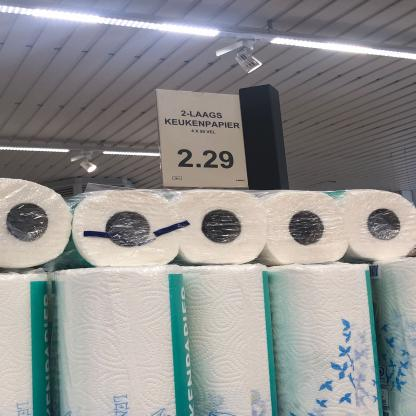prtg: (156, 89, 250, 189)
